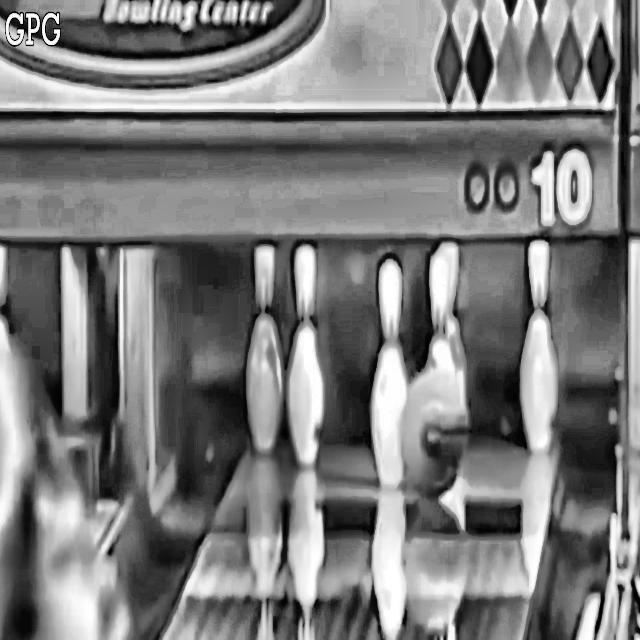bowling-ball: (402, 368, 470, 496)
bowling-pins: (287, 244, 324, 466), (372, 257, 407, 487), (522, 239, 558, 453), (247, 244, 283, 454), (442, 242, 467, 408), (428, 249, 455, 372)
